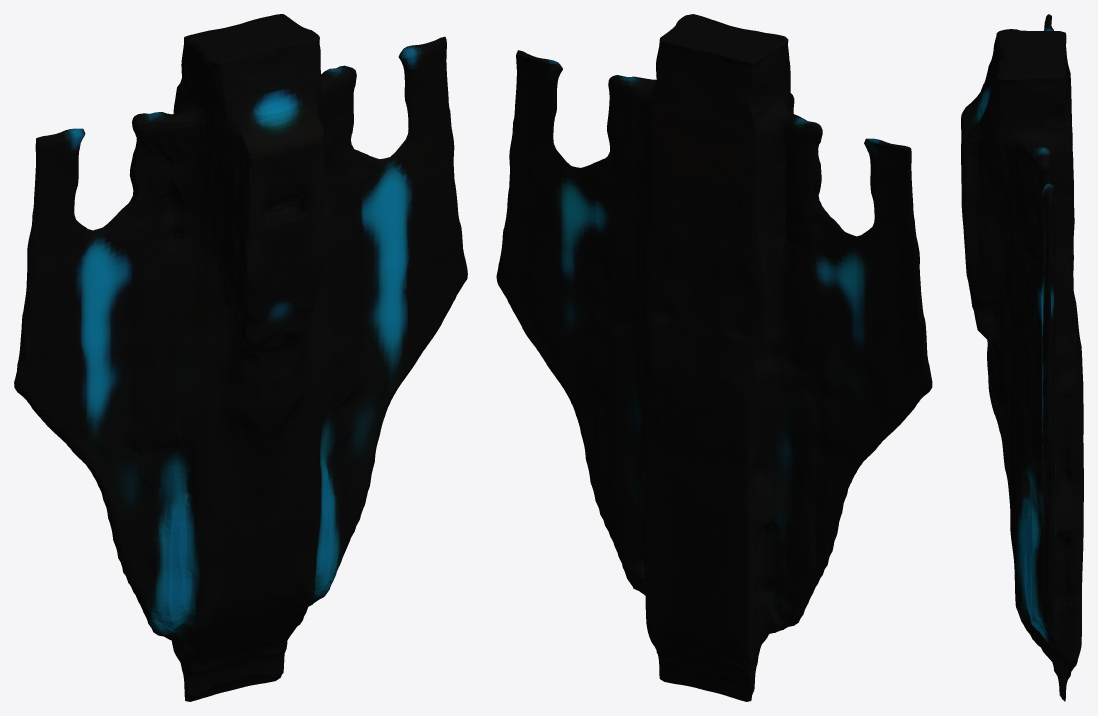
The model's file is Low Poly Space Ship_1749655548.obj.
3 views of the same model, side by side, from view 1: azimuth 30°, elevation 25°; view 2: azimuth 150°, elevation 25°; view 3: azimuth 270°, elevation 25° (orthographic). The views are drawn at different scales.
Size of the model in its own units: 1.4 by 1.97 by 0.3485.
